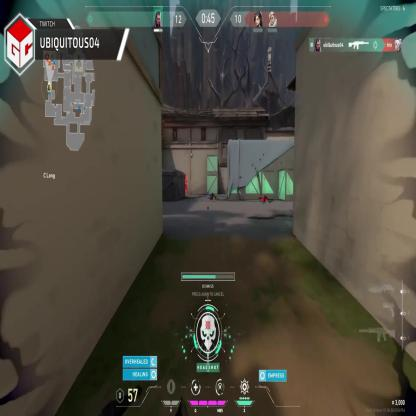enemy: (183, 173, 188, 196)
enemy_head: (184, 173, 187, 178)
